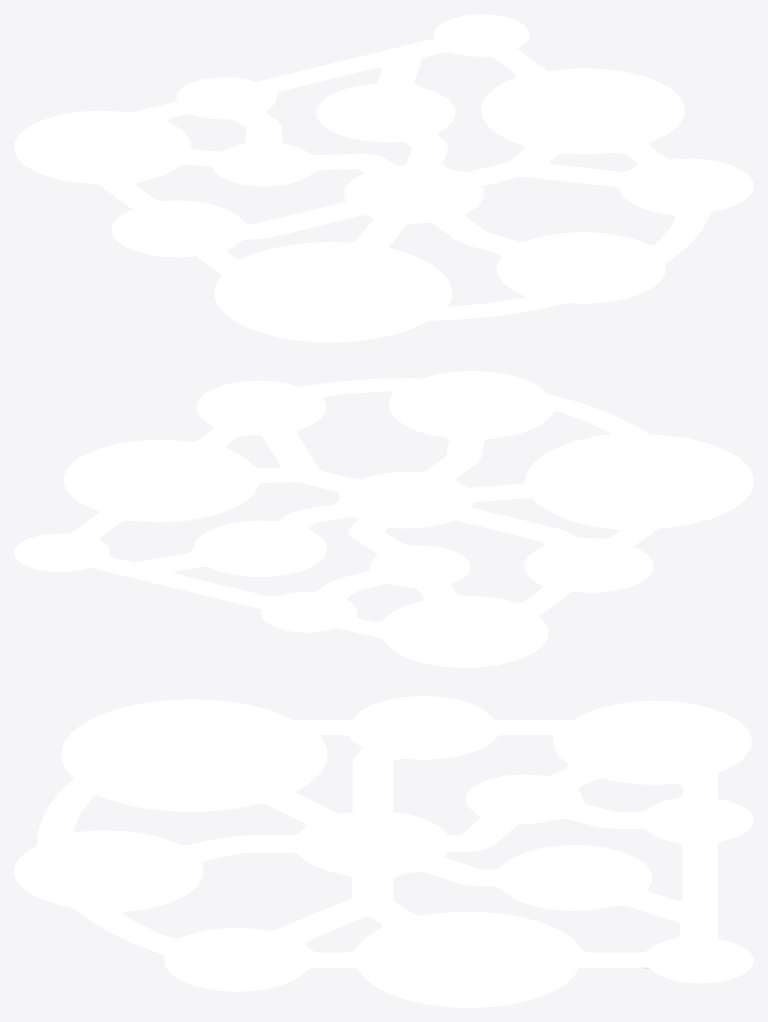
The model's file is obj_road.gltf.
3 views of the same model, one above another, from view 1: azimuth 30°, elevation 25°; view 2: azimuth 150°, elevation 25°; view 3: azimuth 270°, elevation 25° (orthographic). The views are drawn at different scales.
Parts seen in each view (by area): view 1: obj_road; view 2: obj_road; view 3: obj_road.
Part boxes in pixels (<box>): obj_road: <box>14,14,753,342</box>; obj_road: <box>14,371,753,667</box>; obj_road: <box>14,696,753,1007</box>.
Size of the model in its own units: 147 by 0.38 by 147.
Materials: 1 (1 with a texture image).
